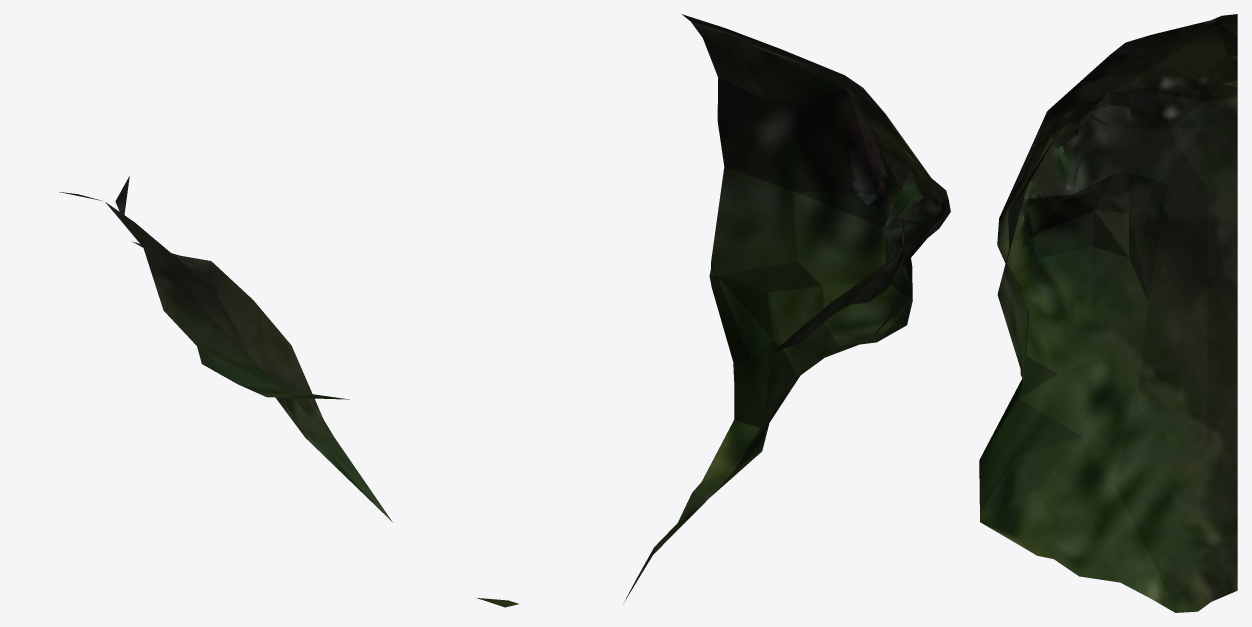
3 renders of one model, left to right at view 1: azimuth 30°, elevation 25°; view 2: azimuth 150°, elevation 25°; view 3: azimuth 270°, elevation 25°, orthographic. The views are drawn at different scales.
Size of the model in its own units: 0.3667 by 0.6147 by 0.3001.
1 material, 1 textured.
